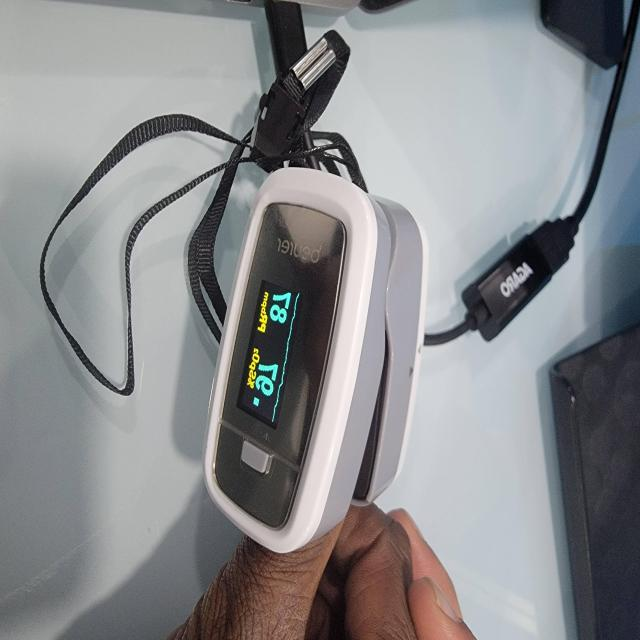spo2: (204, 167, 416, 556)
